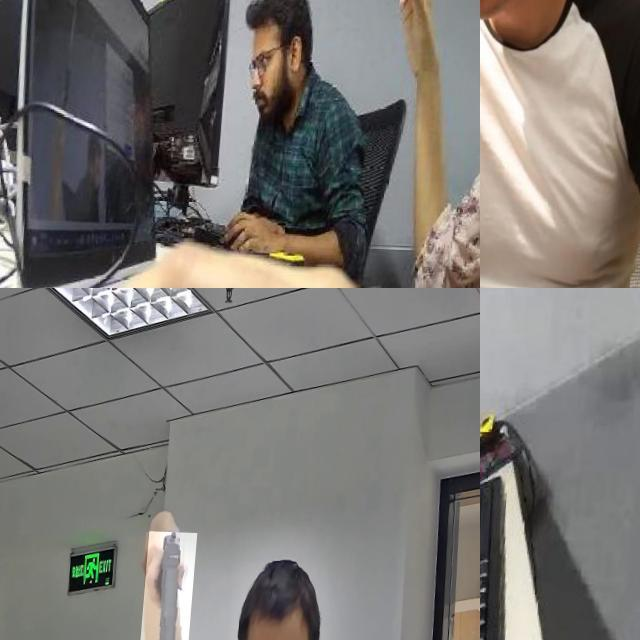-: (480, 175, 520, 288), (368, 0, 418, 38)
gun-knife-thesis - v11 Yolov5 augmented: (143, 529, 203, 640)
